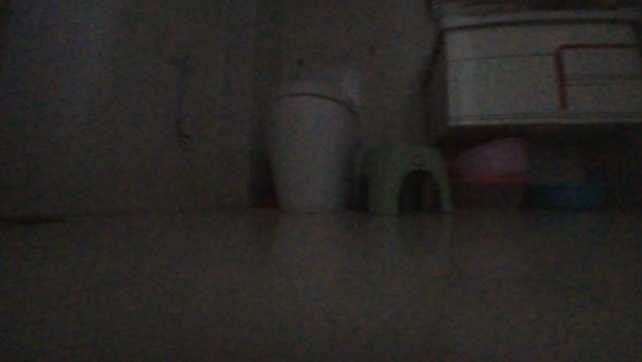plastic_stool: (353, 139, 455, 218)
toilet: (261, 60, 361, 214)
washstand: (431, 0, 640, 134)
